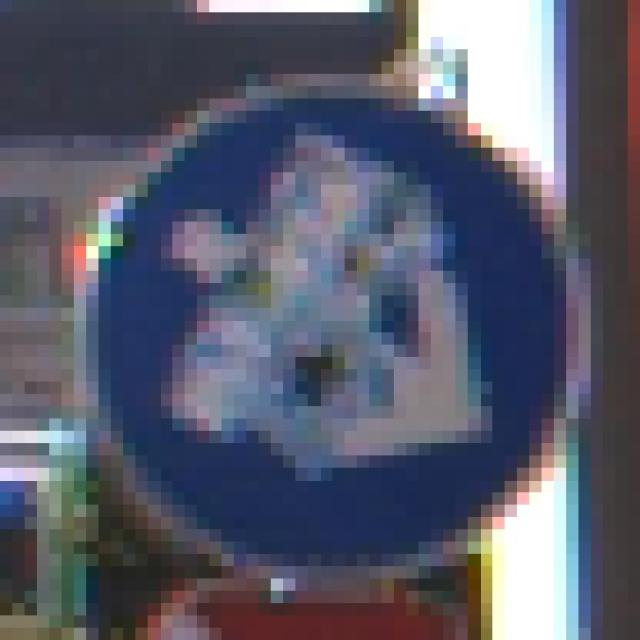Keep-Right: (49, 62, 616, 590)
